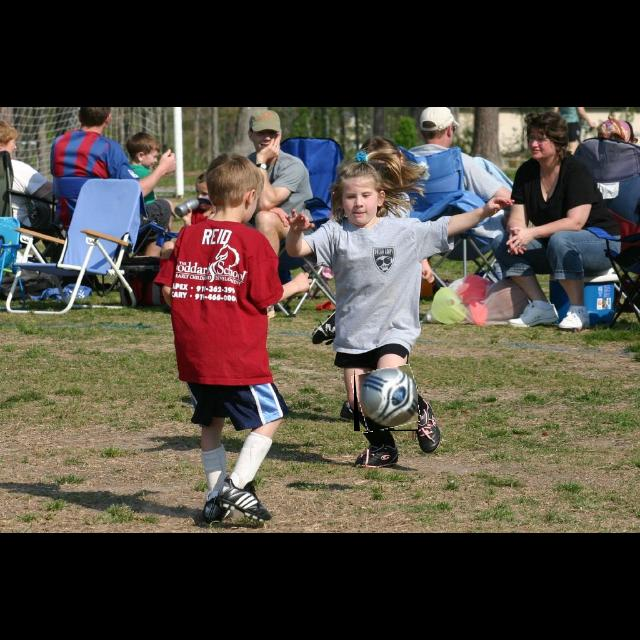Football: (354, 367, 418, 431)
